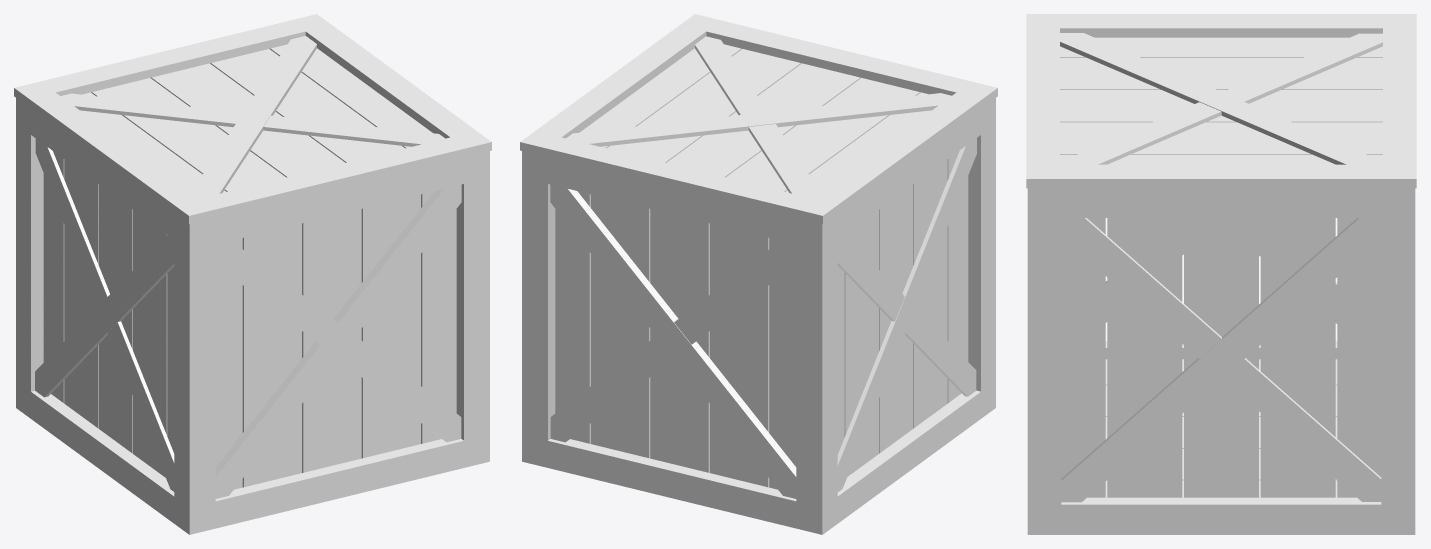
File: Prop_Crate_Box_Open_01.glb
3 renders of one model, left to right at view 1: azimuth 30°, elevation 25°; view 2: azimuth 150°, elevation 25°; view 3: azimuth 270°, elevation 25°, orthographic. The views are drawn at different scales.
Parts seen in each view (by area): view 1: Prop_Crate_Box_Open_01, Prop_Crate_Box_Open_Top_01; view 2: Prop_Crate_Box_Open_01, Prop_Crate_Box_Open_Top_01; view 3: Prop_Crate_Box_Open_01, Prop_Crate_Box_Open_Top_01.
Boxes of the visible parts, x1,y1,x2,y2 form: Prop_Crate_Box_Open_01: [16, 98, 489, 534]; Prop_Crate_Box_Open_Top_01: [14, 14, 491, 224]; Prop_Crate_Box_Open_01: [522, 98, 995, 534]; Prop_Crate_Box_Open_Top_01: [520, 14, 997, 224]; Prop_Crate_Box_Open_01: [1027, 188, 1415, 534]; Prop_Crate_Box_Open_Top_01: [1026, 14, 1416, 188].
Size of the model in its own units: 0.7635 by 0.7704 by 0.7639.
Materials: 1 (1 with a texture image).
